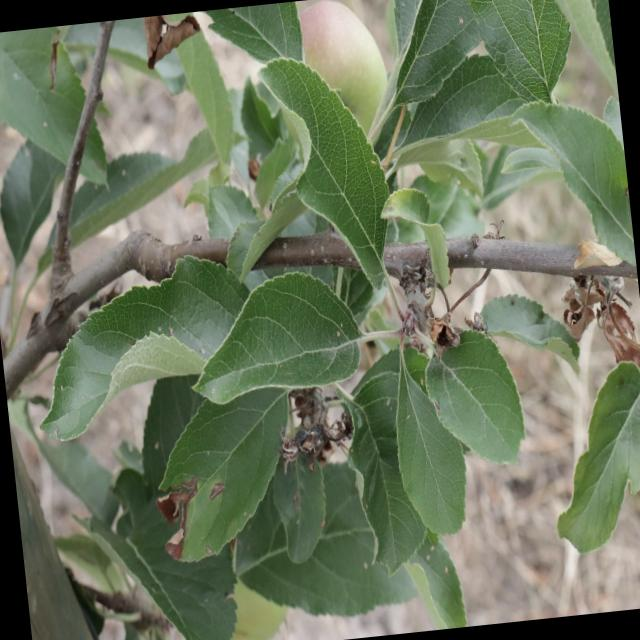-FireBlight-: (559, 233, 640, 370)
